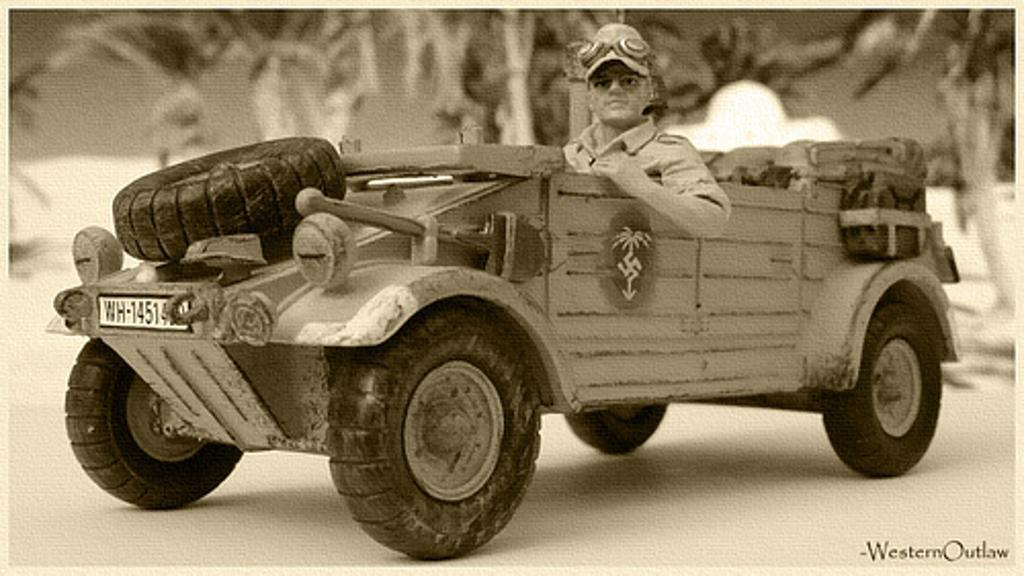face: (593, 47, 655, 123)
